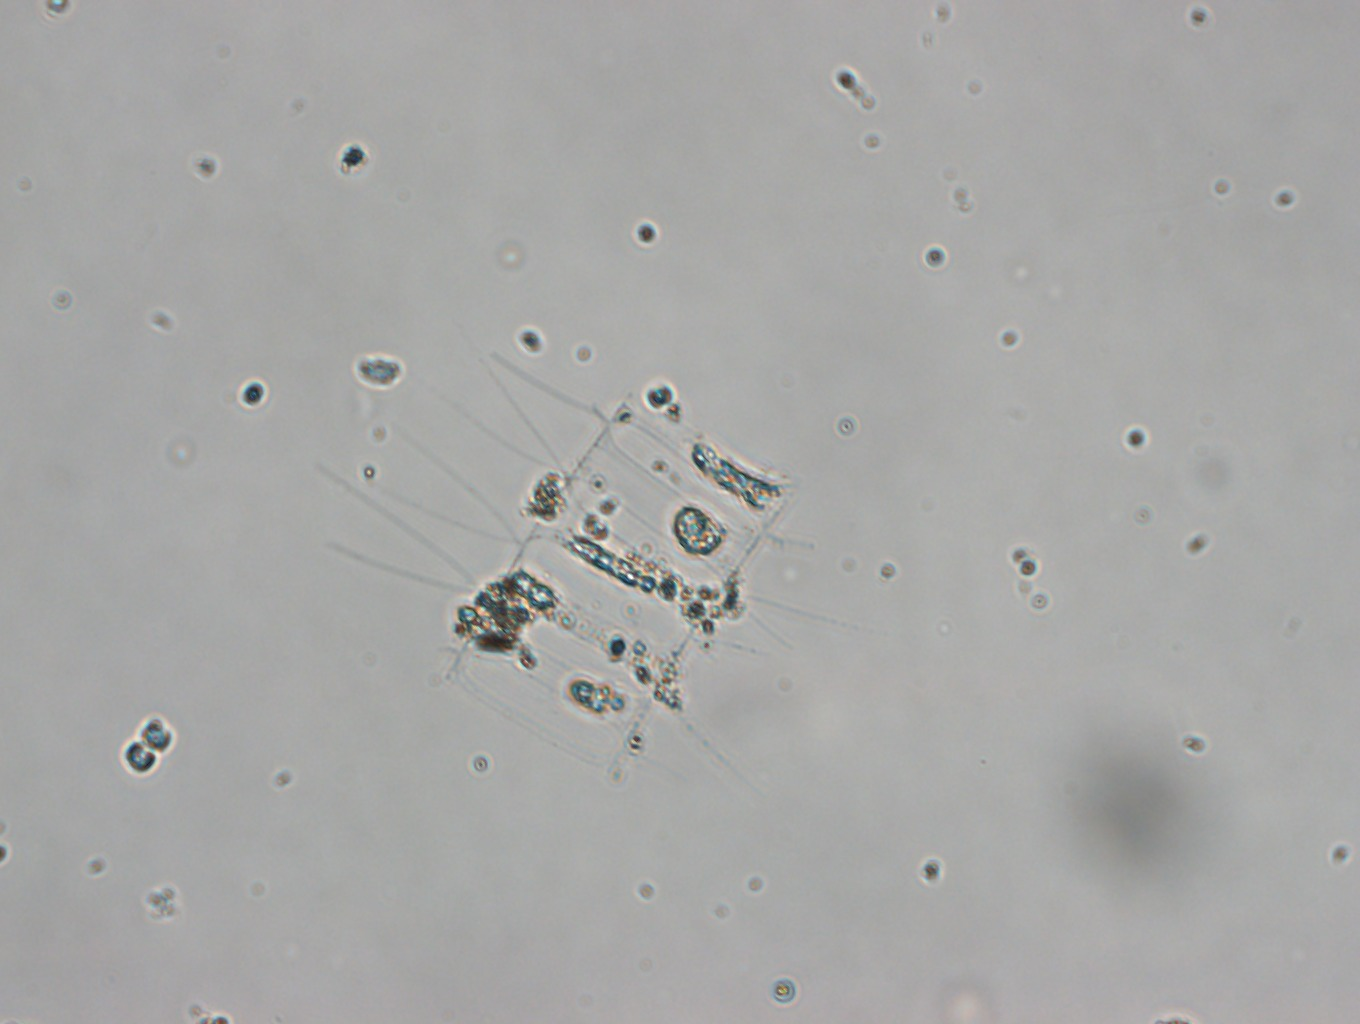chaetoceros: (319, 345, 846, 783)
